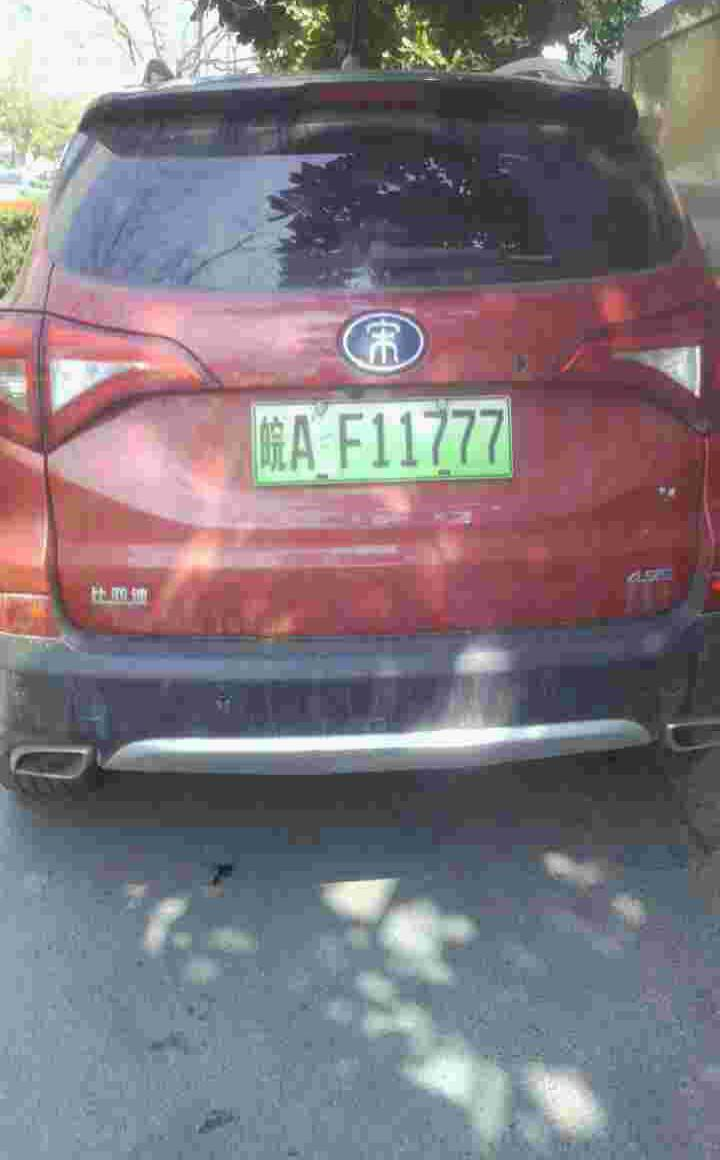car: (254, 398, 522, 486)
